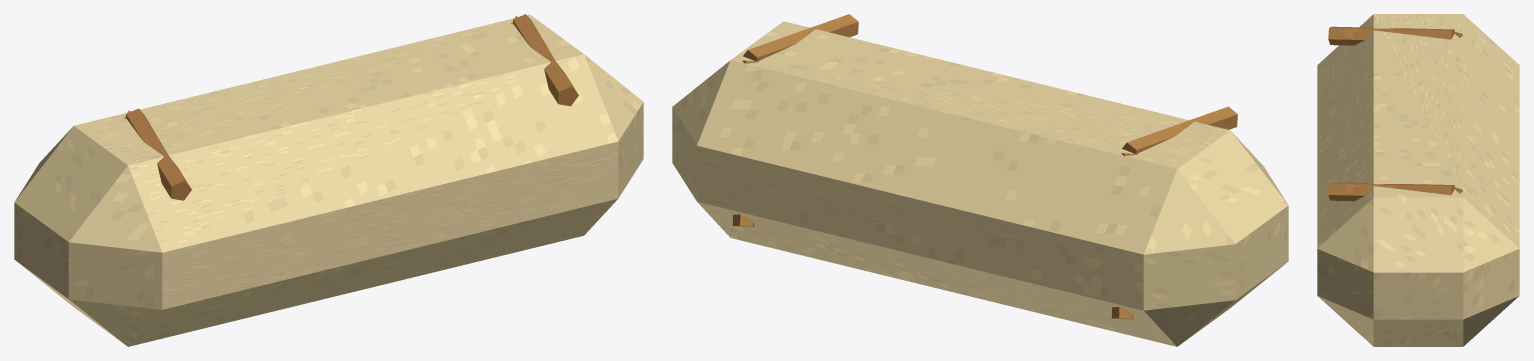
Rendered from junk_burrito.glb.
3 renders of one model, left to right at view 1: azimuth 30°, elevation 25°; view 2: azimuth 150°, elevation 25°; view 3: azimuth 270°, elevation 25°, orthographic. The views are drawn at different scales.
Visible parts, largest first — view 1: block_rolled flour tortilla, block_folded tortilla ends 1 (×2); view 2: block_rolled flour tortilla, block_folded tortilla ends 1 (×2); view 3: block_rolled flour tortilla, block_folded tortilla ends 1 (×2).
Part boxes in pixels (x1=…): block_rolled flour tortilla: x1=14, y1=14, x2=643, y2=346; block_folded tortilla ends 1 (×2): x1=126, y1=14, x2=578, y2=200; block_rolled flour tortilla: x1=672, y1=21, x2=1288, y2=346; block_folded tortilla ends 1 (×2): x1=743, y1=14, x2=1237, y2=153; block_rolled flour tortilla: x1=1317, y1=14, x2=1519, y2=346; block_folded tortilla ends 1 (×2): x1=1328, y1=26, x2=1454, y2=201.
Size of the model in its own units: 0.1203 by 0.0379 by 0.0445.
Materials: 1 (1 with a texture image).
